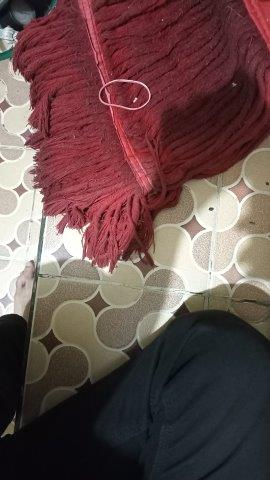karet: (98, 79, 152, 110)
